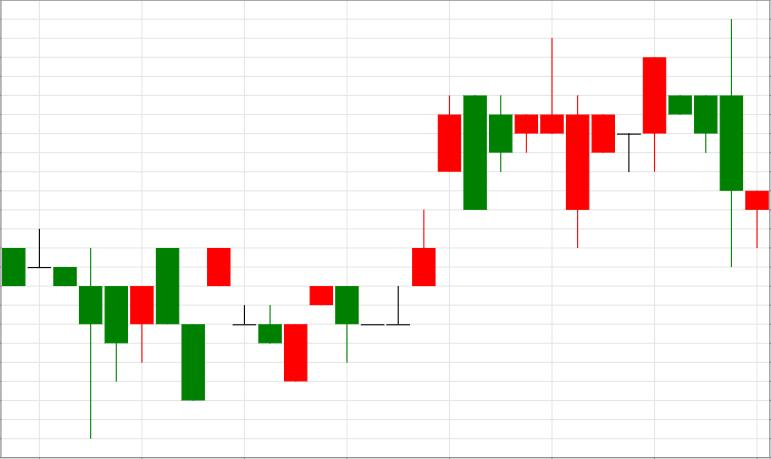bearish_engulfing_fall: (361, 95, 486, 326)
